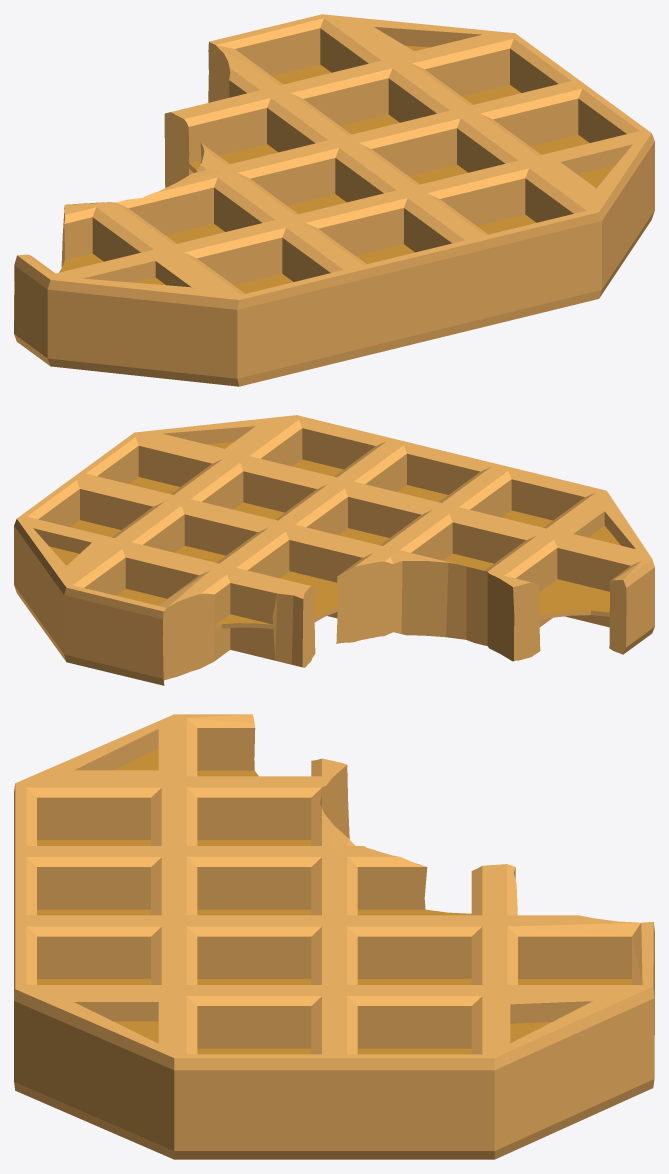
Rendered from GofreRoto.fbx.
3 renders of one model, top to bottom at view 1: azimuth 30°, elevation 25°; view 2: azimuth 150°, elevation 25°; view 3: azimuth 270°, elevation 25°, orthographic. The views are drawn at different scales.
Parts seen in each view (by area): view 1: GofreRoto; view 2: GofreRoto; view 3: GofreRoto.
Boxes of the visible parts, left/top/right/bottom form: GofreRoto: left=14, top=14, right=654, bottom=386; GofreRoto: left=14, top=415, right=654, bottom=685; GofreRoto: left=14, top=714, right=654, bottom=1159.
Size of the model in its own units: 711 by 96.88 by 554.
